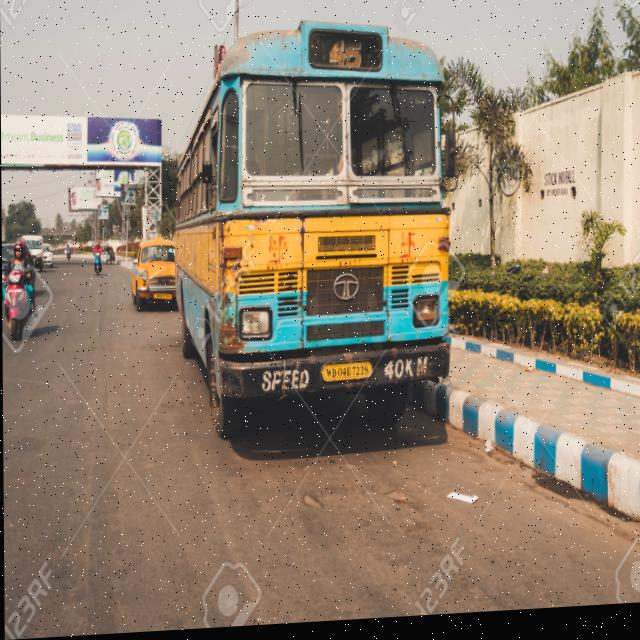plate: (319, 361, 374, 389), (151, 290, 174, 305), (7, 288, 22, 294)
